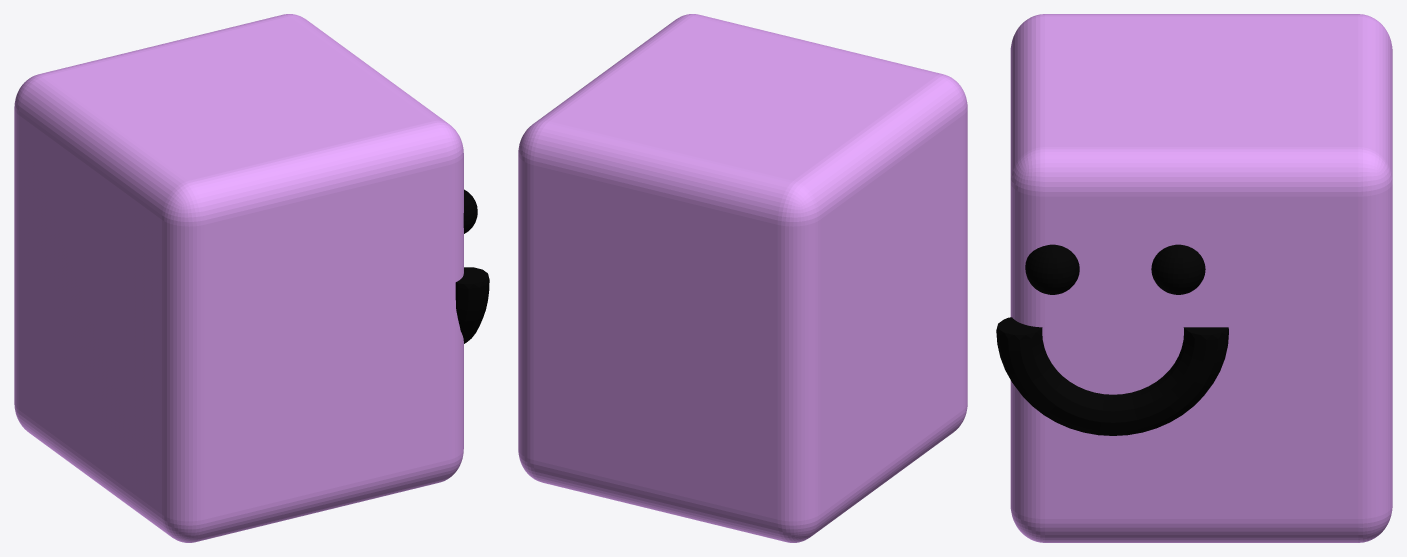
The model's file is Chracter_LightPurple.glb.
3 views of the same model, side by side, from view 1: azimuth 30°, elevation 25°; view 2: azimuth 150°, elevation 25°; view 3: azimuth 270°, elevation 25° (orthographic). The views are drawn at different scales.
Parts seen in each view (by area): view 1: Chracter_LightPurple; view 2: Chracter_LightPurple; view 3: Chracter_LightPurple.
Part boxes in pixels (bbox=[...]): Chracter_LightPurple: bbox=[14, 14, 489, 542]; Chracter_LightPurple: bbox=[518, 14, 967, 542]; Chracter_LightPurple: bbox=[996, 14, 1392, 542].
Bounding box in the file's own units: 1.84 × 2 × 1.83.
